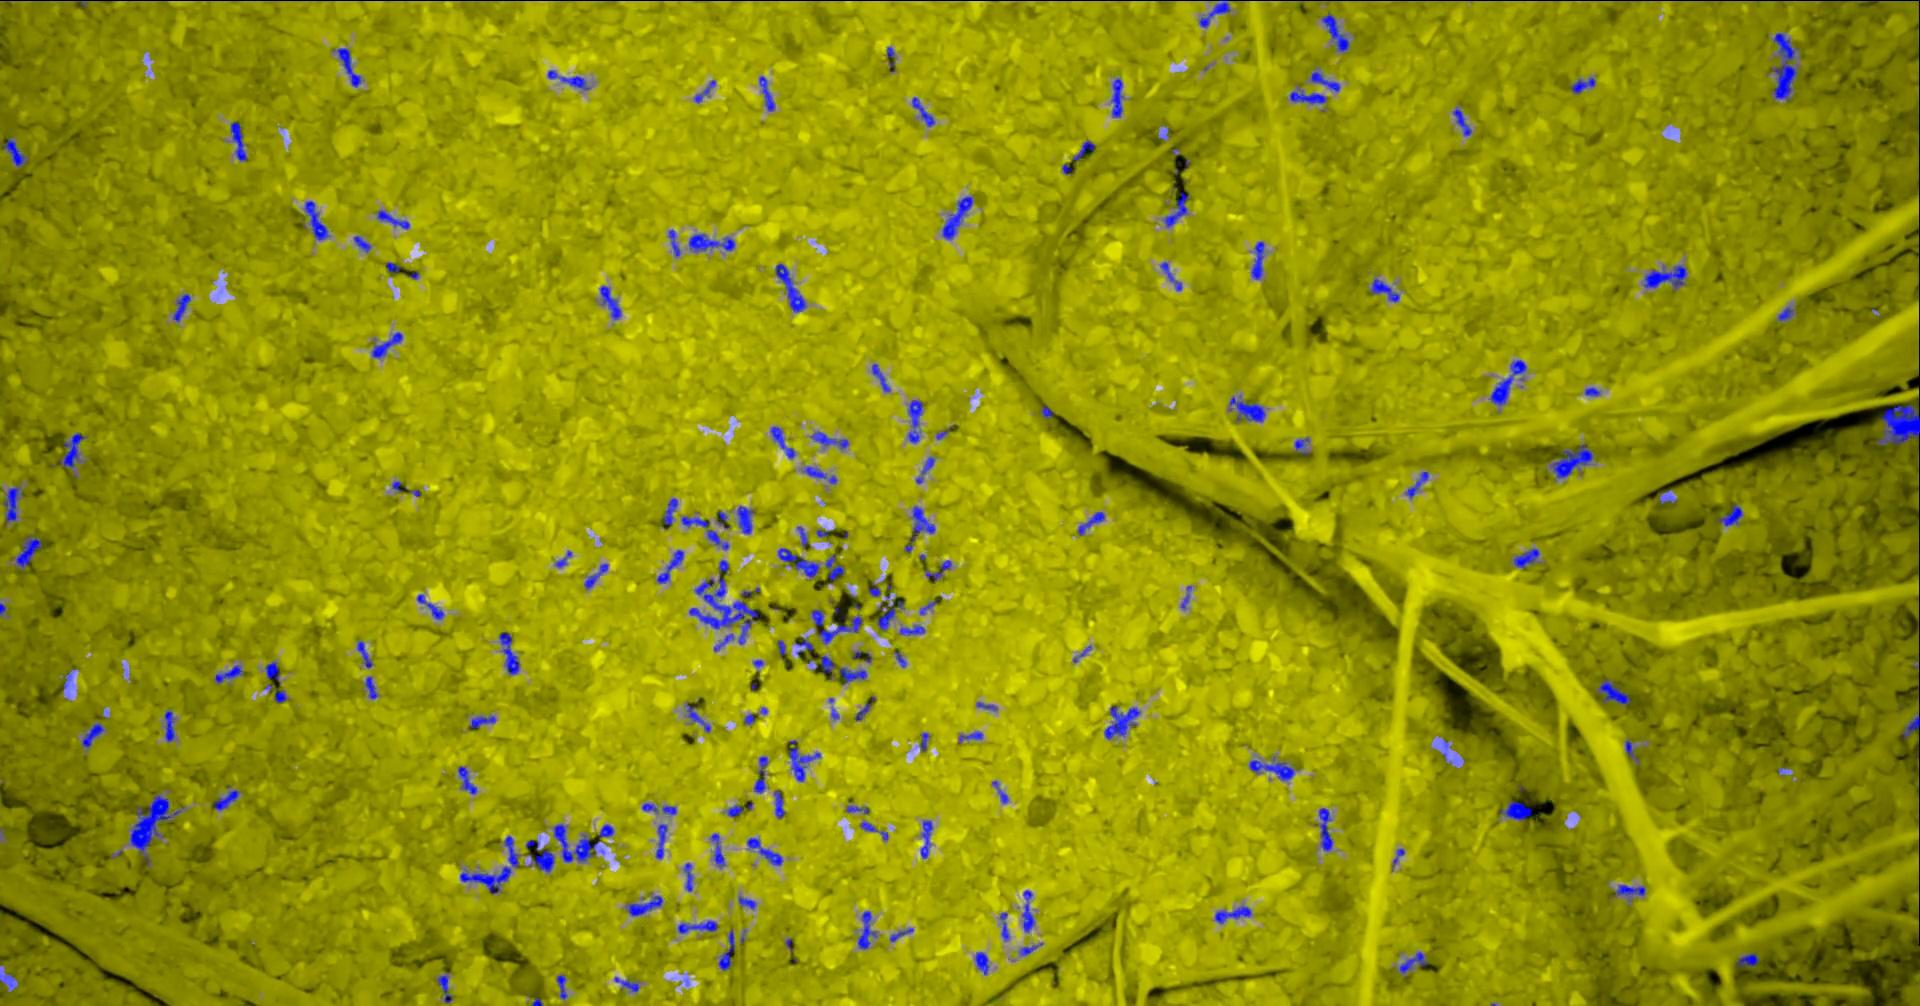ant: (458, 835, 518, 893), (552, 823, 599, 862), (810, 608, 862, 643), (1771, 32, 1797, 102), (1490, 359, 1526, 405), (681, 516, 728, 549), (775, 263, 806, 311), (1550, 443, 1592, 478), (904, 506, 935, 553), (789, 739, 820, 781), (942, 196, 971, 239), (1103, 705, 1139, 739), (777, 547, 819, 575), (1248, 756, 1294, 780), (1321, 11, 1349, 51), (333, 47, 361, 86), (1643, 264, 1686, 288), (745, 837, 782, 865), (303, 199, 328, 240), (1163, 191, 1189, 227), (524, 840, 554, 871), (657, 549, 683, 583), (498, 633, 519, 674), (58, 432, 84, 467), (15, 535, 41, 570), (1228, 396, 1265, 420), (688, 232, 734, 251), (547, 69, 589, 89), (1197, 0, 1229, 27), (371, 332, 403, 358), (877, 600, 904, 630), (770, 426, 794, 459), (1597, 680, 1630, 704), (3, 486, 23, 523), (907, 399, 923, 443), (857, 911, 876, 949), (910, 97, 935, 126), (1214, 904, 1251, 923), (1369, 278, 1399, 301), (599, 285, 620, 319), (627, 895, 662, 916), (717, 929, 734, 970), (810, 431, 848, 448), (417, 594, 444, 619), (686, 702, 710, 730), (1498, 800, 1531, 821), (230, 121, 246, 160), (1077, 511, 1103, 535), (3, 138, 25, 166), (1159, 260, 1181, 290), (1318, 807, 1332, 851), (213, 786, 239, 810), (1399, 951, 1427, 973), (758, 75, 775, 111), (376, 210, 409, 227), (1406, 471, 1429, 497), (824, 553, 843, 583), (584, 563, 607, 588), (924, 559, 951, 580), (1310, 71, 1338, 91), (677, 920, 717, 934), (1289, 88, 1326, 103), (1717, 504, 1742, 526), (81, 721, 103, 747), (803, 466, 836, 483), (1512, 547, 1539, 568), (171, 293, 190, 321), (215, 664, 243, 683), (457, 765, 476, 793), (1613, 884, 1644, 901), (710, 833, 725, 868), (437, 970, 452, 1005), (753, 756, 767, 793), (1451, 108, 1470, 135), (916, 456, 935, 483), (1110, 77, 1123, 117), (871, 363, 889, 391), (737, 506, 754, 533), (860, 822, 888, 840), (1072, 140, 1095, 161), (813, 655, 834, 678), (855, 696, 875, 720), (1251, 241, 1263, 279), (662, 497, 677, 528), (919, 821, 932, 857), (1022, 890, 1034, 931), (356, 640, 372, 667), (839, 667, 866, 683), (695, 80, 715, 102), (264, 683, 286, 702), (1570, 77, 1595, 93), (712, 633, 733, 652), (1901, 715, 1919, 737), (990, 780, 1007, 803), (615, 976, 639, 991), (668, 229, 681, 257), (655, 823, 665, 857), (1735, 951, 1757, 967), (469, 715, 495, 728), (889, 927, 913, 941), (773, 789, 785, 818), (1625, 739, 1638, 765), (264, 661, 279, 681), (164, 710, 174, 741), (364, 676, 377, 699), (975, 951, 988, 974), (999, 912, 1010, 940), (353, 235, 370, 251), (555, 550, 571, 567), (1294, 437, 1309, 455), (0, 973, 18, 988), (794, 636, 813, 650), (683, 862, 692, 890), (738, 895, 756, 909), (796, 526, 808, 547), (556, 974, 566, 998), (959, 730, 982, 741), (1777, 306, 1793, 320), (597, 823, 613, 837), (886, 46, 895, 71), (716, 511, 729, 528), (899, 625, 924, 634), (919, 732, 930, 751), (1018, 945, 1037, 955), (776, 639, 785, 661), (385, 260, 400, 272), (846, 805, 869, 813), (1040, 405, 1053, 418), (728, 805, 742, 815), (662, 805, 676, 814), (1583, 387, 1599, 395)
